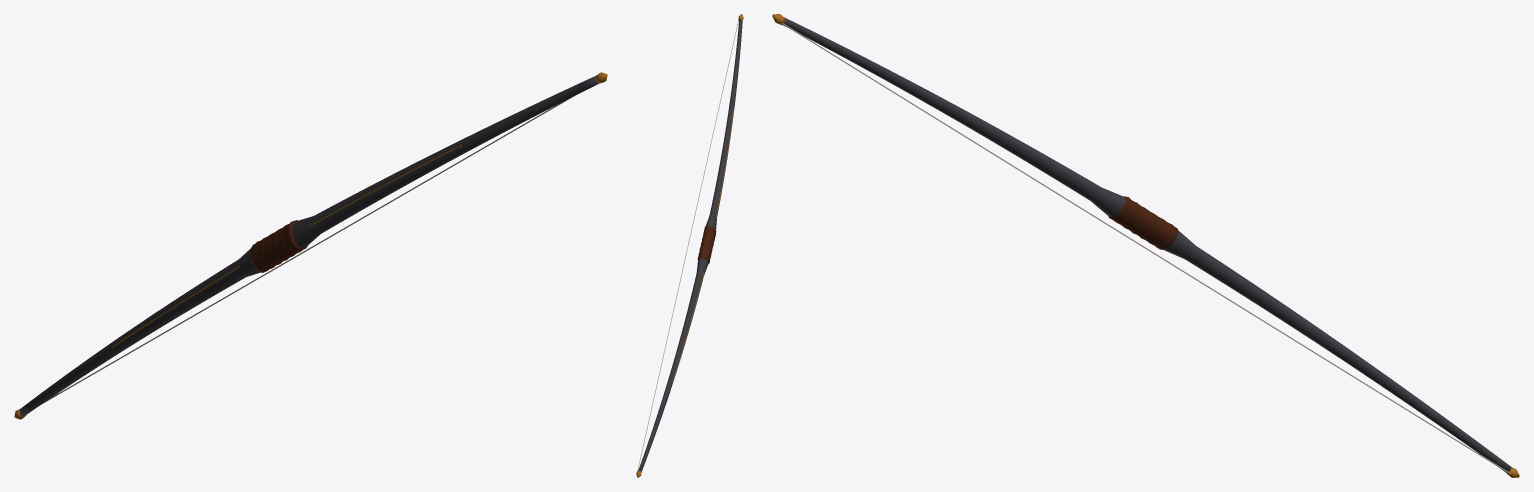
File: weapon_spire_longbow.glb
3 views of the same model, side by side, from view 1: azimuth 30°, elevation 25°; view 2: azimuth 150°, elevation 25°; view 3: azimuth 270°, elevation 25° (orthographic). The views are drawn at different scales.
Visible parts, largest first — view 1: spire_longbow; view 2: spire_longbow; view 3: spire_longbow.
Part boxes in pixels (x1=…): spire_longbow: x1=14, y1=72, x2=607, y2=419; spire_longbow: x1=636, y1=14, x2=743, y2=477; spire_longbow: x1=772, y1=14, x2=1519, y2=477.
Size of the model in its own units: 0.3795 by 1.08 by 1.33.
4 materials, 3 textured.
